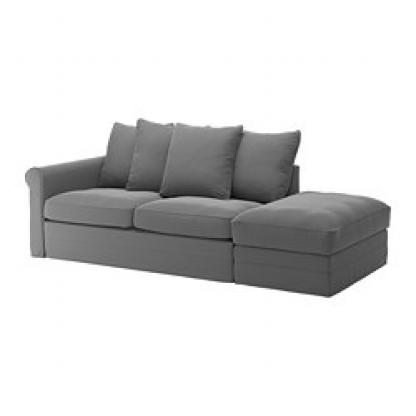Sofa: (22, 91, 391, 303)
